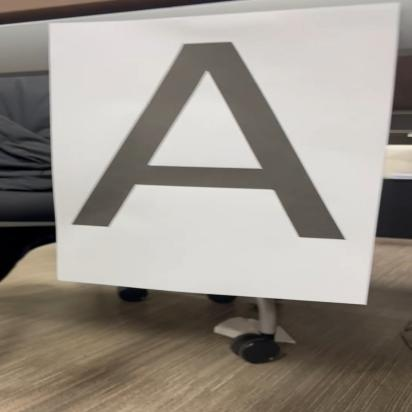seat: (64, 37, 353, 245)
